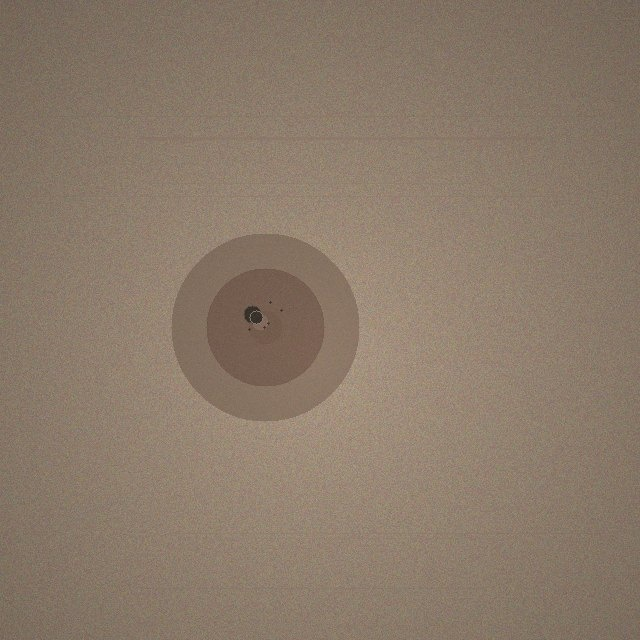shrinkage: (171, 233, 359, 421)
